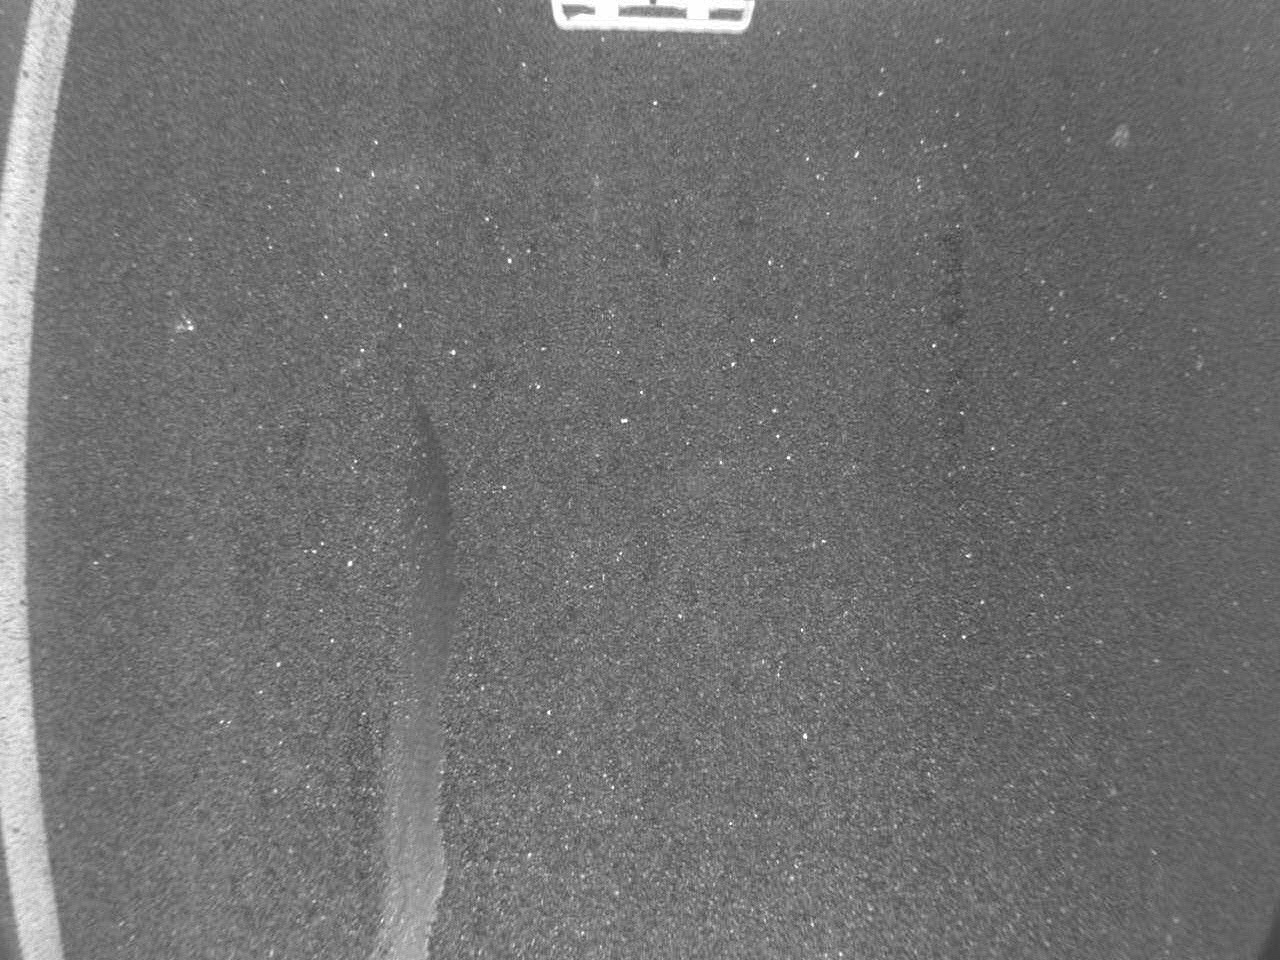sealed: (363, 408, 502, 960)
